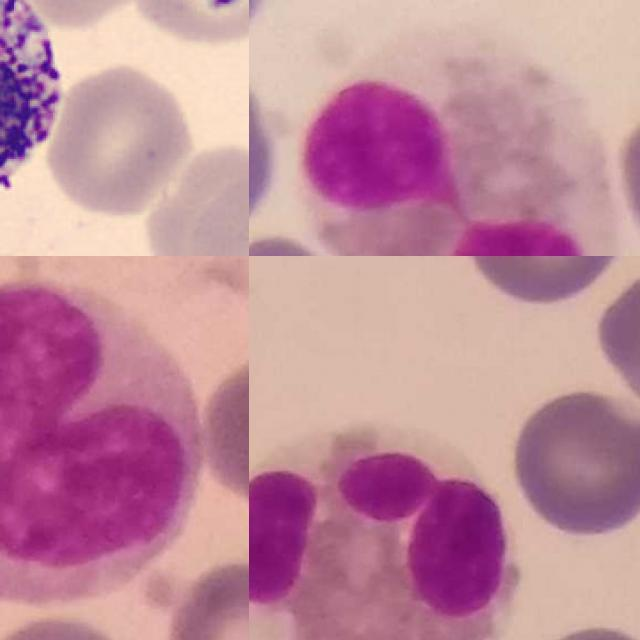Basophil: (0, 0, 74, 234)
Eosinophil: (294, 26, 619, 256), (249, 425, 528, 640)
Monocyte: (0, 275, 206, 605)
RBC: (43, 58, 194, 219), (144, 130, 249, 256), (120, 0, 249, 49)
